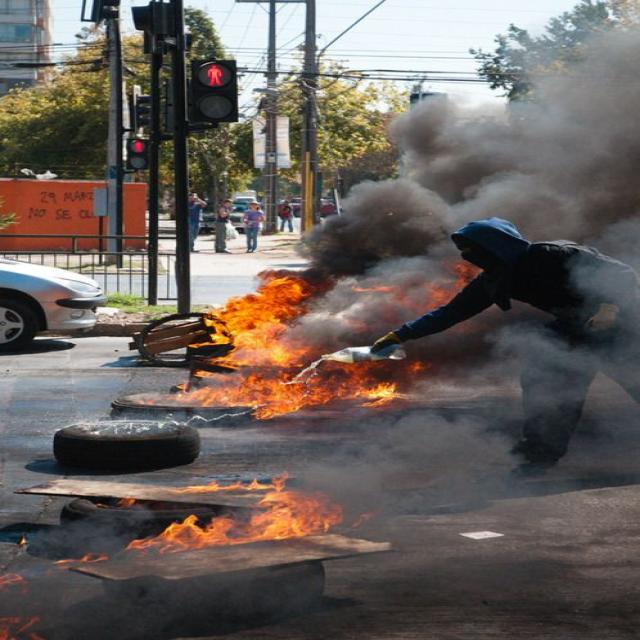fire: (177, 364, 398, 419), (202, 275, 306, 365), (241, 490, 342, 542), (125, 514, 239, 549), (181, 472, 287, 492), (0, 610, 45, 640)
